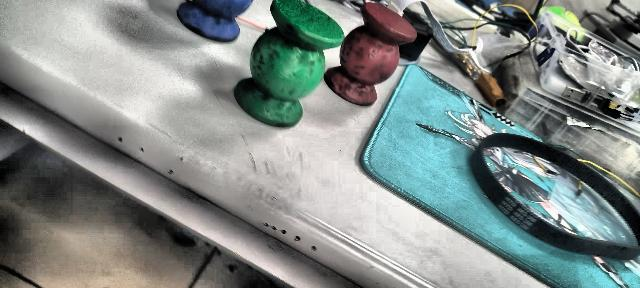blue: (176, 0, 257, 43)
green: (236, 0, 347, 129)
red: (321, 2, 420, 114)
